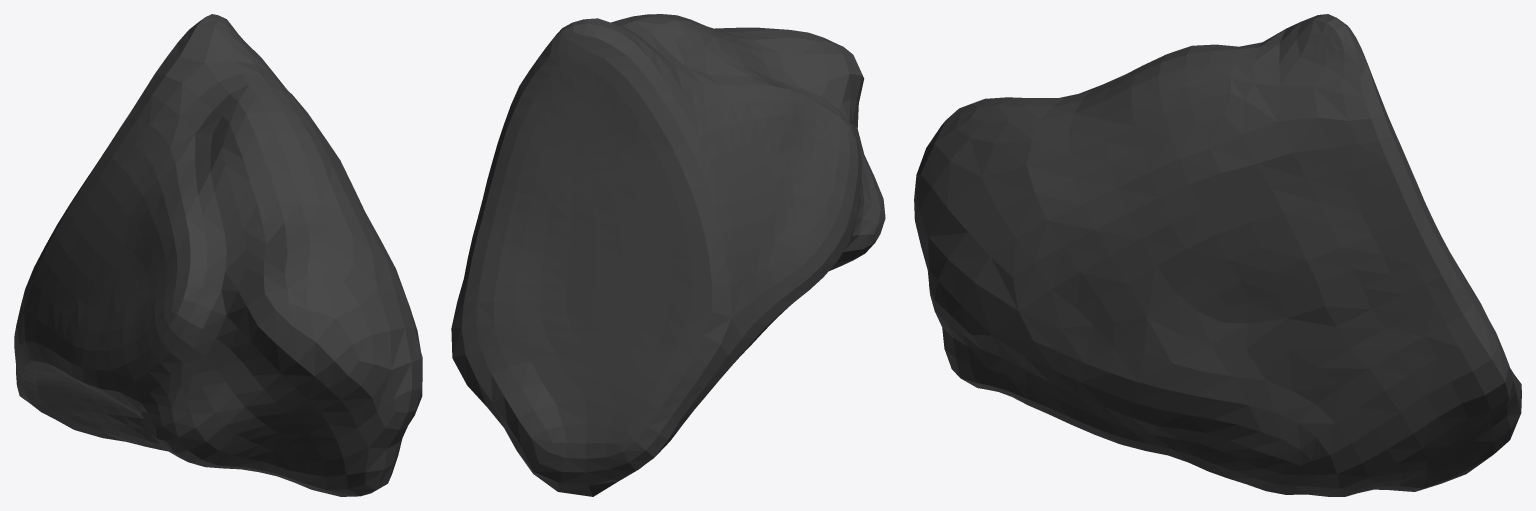
File: Frontal_sinus_R_rostral.glb
The picture shows the model from 3 angles, left to right: view 1: azimuth 30°, elevation 25°; view 2: azimuth 150°, elevation 25°; view 3: azimuth 270°, elevation 25°; orthographic projection. The views are drawn at different scales.
Visible parts, largest first — view 1: Frontal_sinus_R_rostral; view 2: Frontal_sinus_R_rostral; view 3: Frontal_sinus_R_rostral.
Boxes of the visible parts, x1,y1,x2,y2 form: Frontal_sinus_R_rostral: [14, 14, 422, 496]; Frontal_sinus_R_rostral: [451, 14, 885, 496]; Frontal_sinus_R_rostral: [914, 14, 1521, 496].
Bounding box in the file's own units: 59.01 × 92.51 × 106.
Materials: 1 (1 with a texture image).
